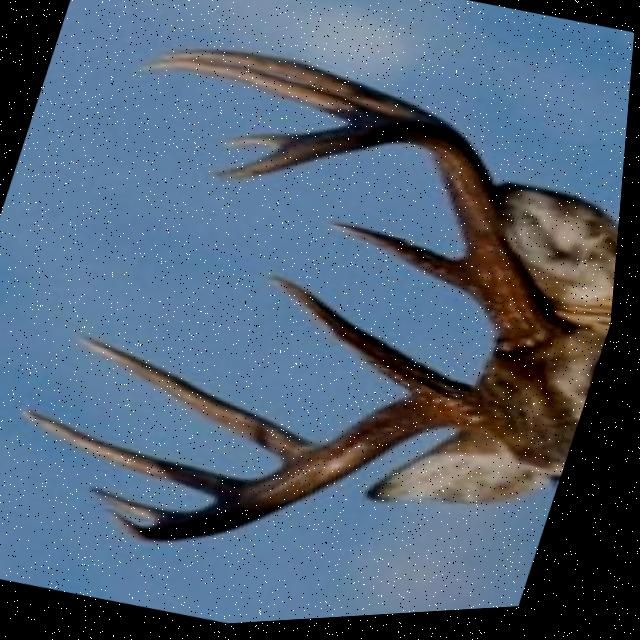L-F: (111, 391, 492, 547)
L-G1: (268, 278, 476, 400)
L-G2: (76, 336, 326, 473)
L-G3: (25, 408, 260, 505)
L-G4: (95, 488, 199, 526)
R-E1: (220, 135, 297, 155)
R-F: (208, 123, 580, 357)
R-G1: (329, 224, 485, 309)
R-G2: (131, 62, 387, 127)
R-G3: (160, 51, 459, 134)
